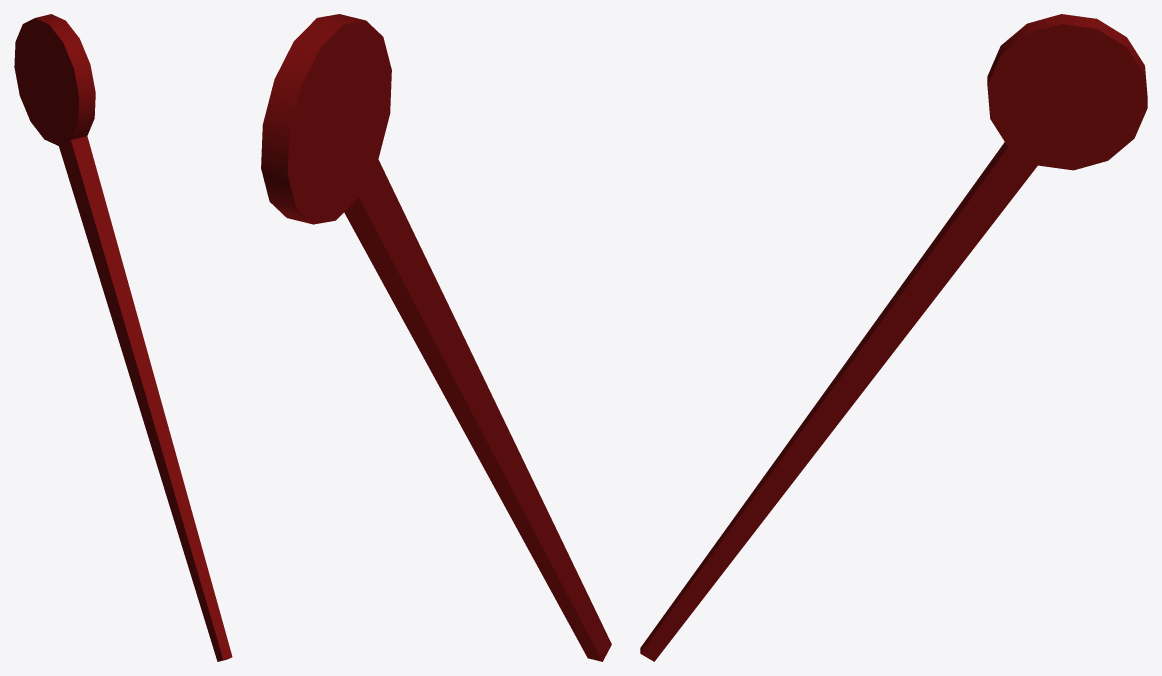
File: arrow.FBX
3 renders of one model, left to right at view 1: azimuth 30°, elevation 25°; view 2: azimuth 150°, elevation 25°; view 3: azimuth 270°, elevation 25°, orthographic. The views are drawn at different scales.
Visible parts, largest first — view 1: Arrow; view 2: Arrow; view 3: Arrow.
Boxes of the visible parts, box(x1,y1,x2,y2) form: Arrow: box(14, 14, 232, 661); Arrow: box(261, 14, 611, 661); Arrow: box(640, 14, 1147, 661).
Bounding box in the file's own units: 0.0499 × 1.49 × 1.07.
